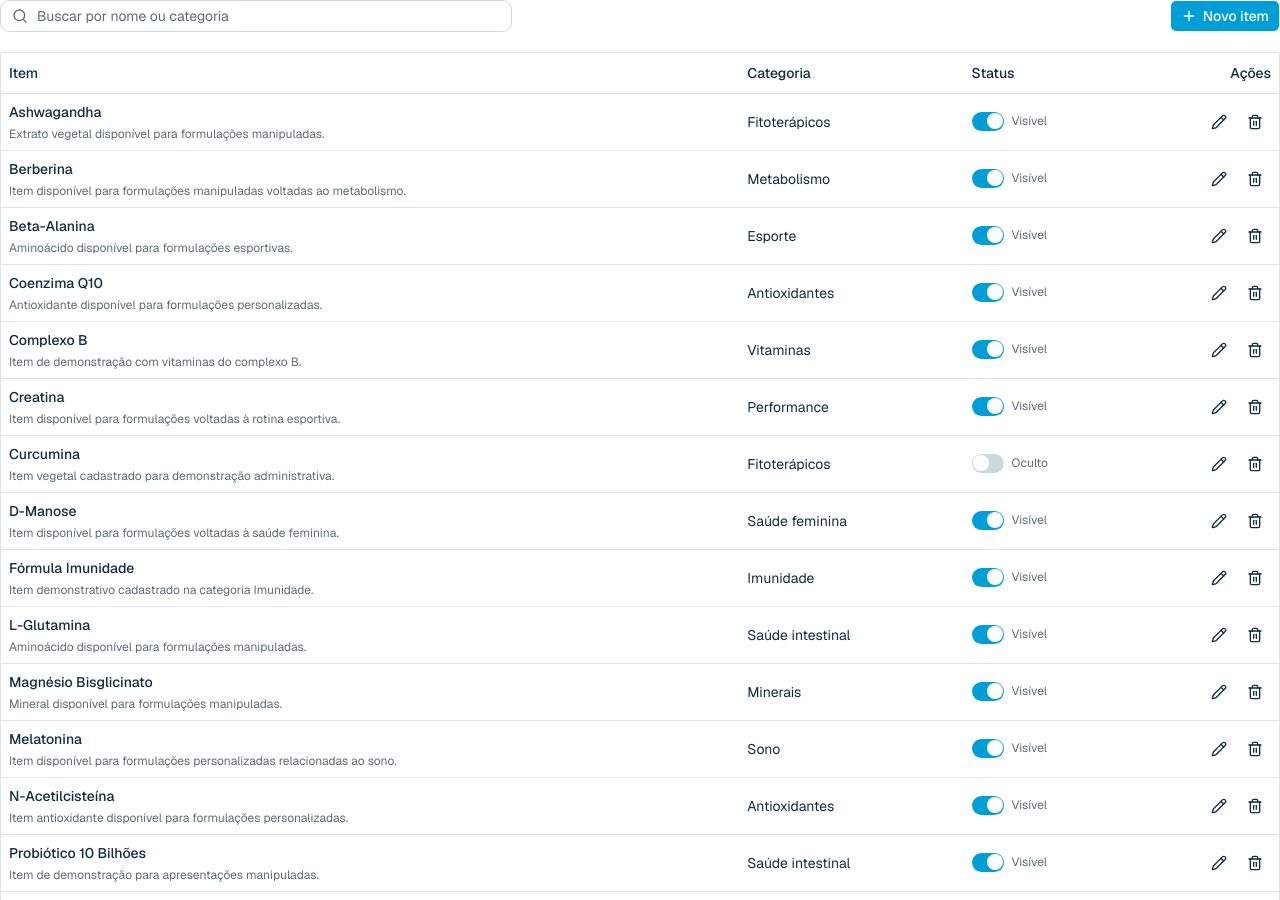
Scenario: CatalogAdminContent › requires explicit confirmation before deleting an item
The image size is (1280, 900).
Click the button named "Excluir Berberina" at (1255, 178), box [1239,162,1271,194]
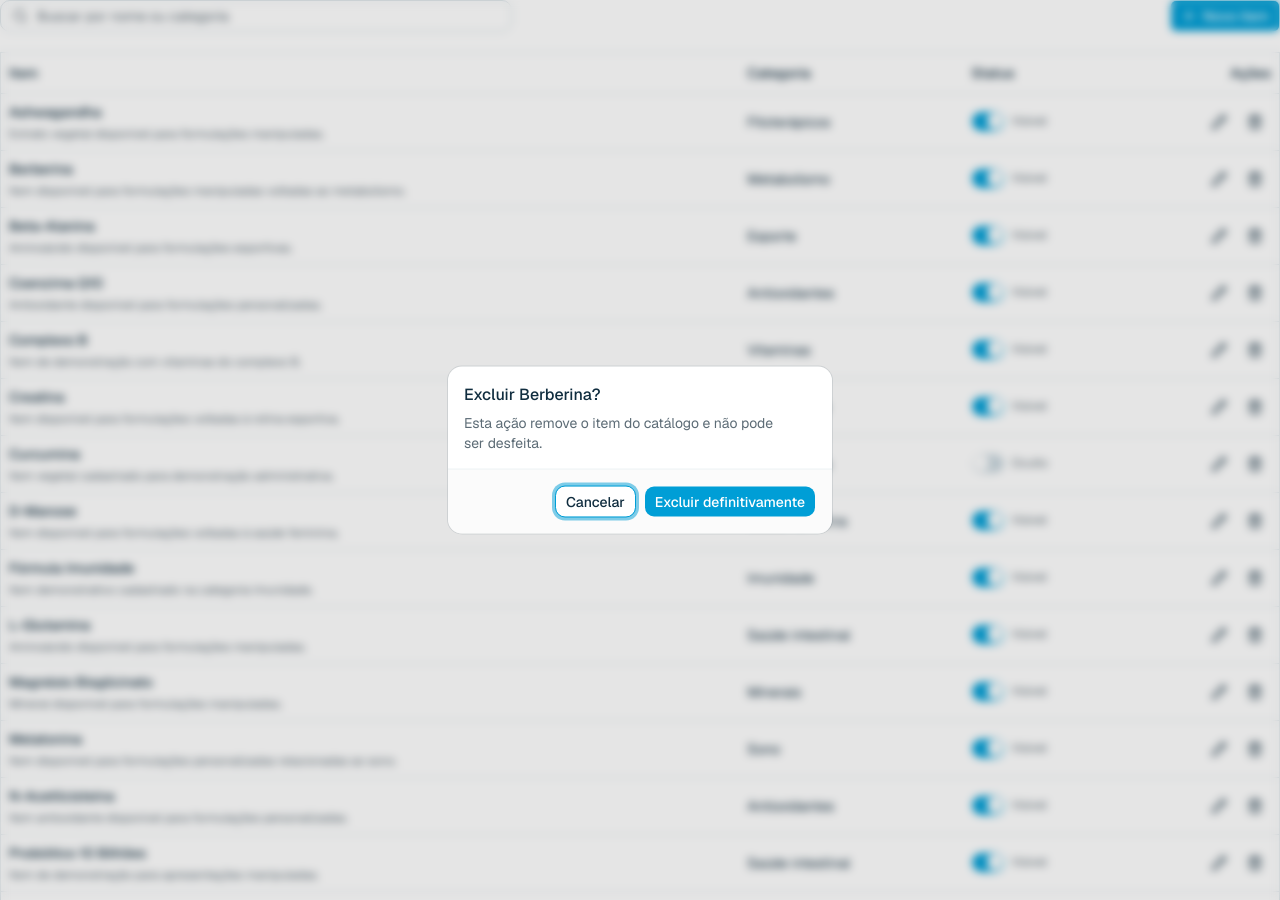
Result: the dialog is shown at [448,366,832,534]
Click the button "Excluir definitivamente" at (730, 502), box [644,486,816,518]
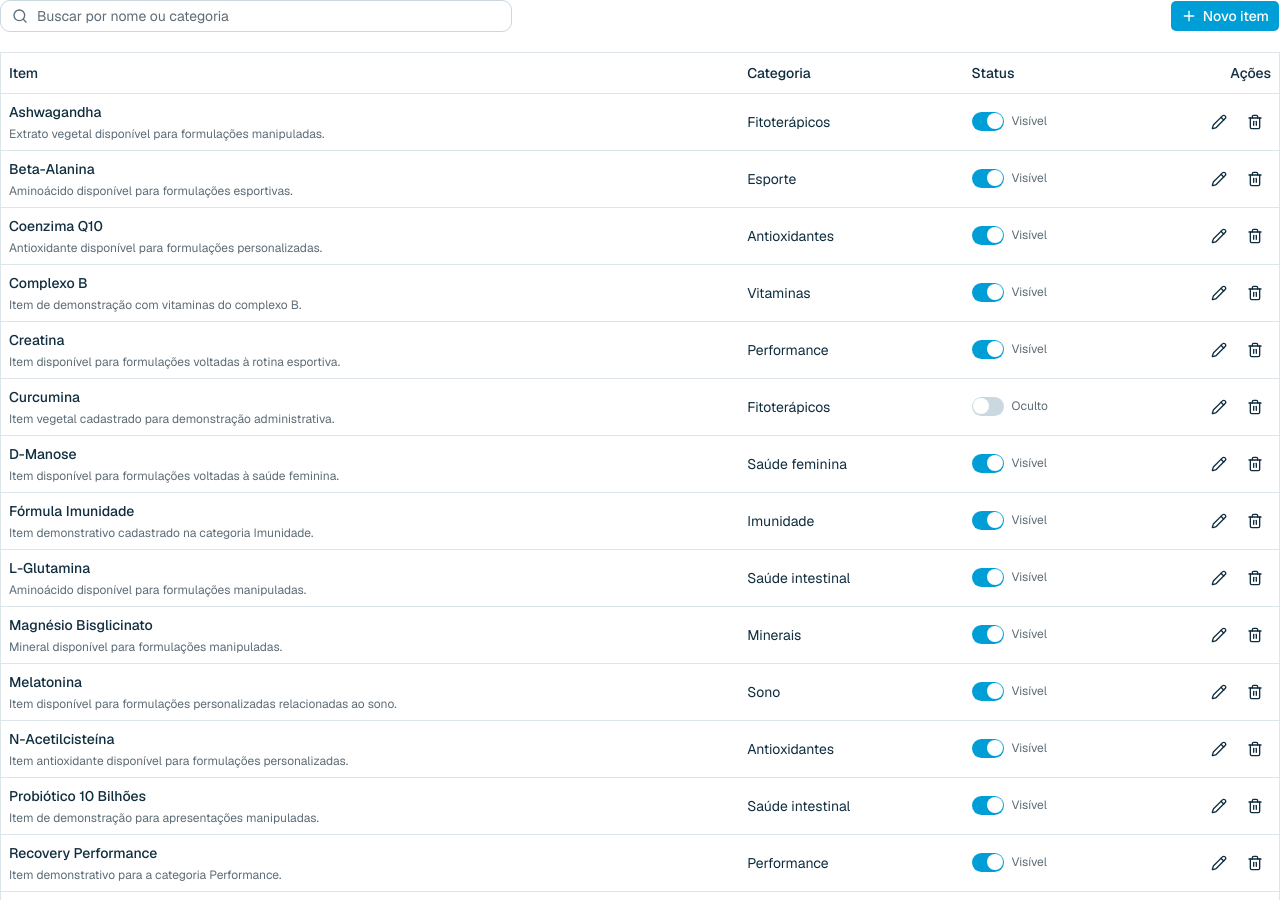
Result: the text "Berberina" is gone
